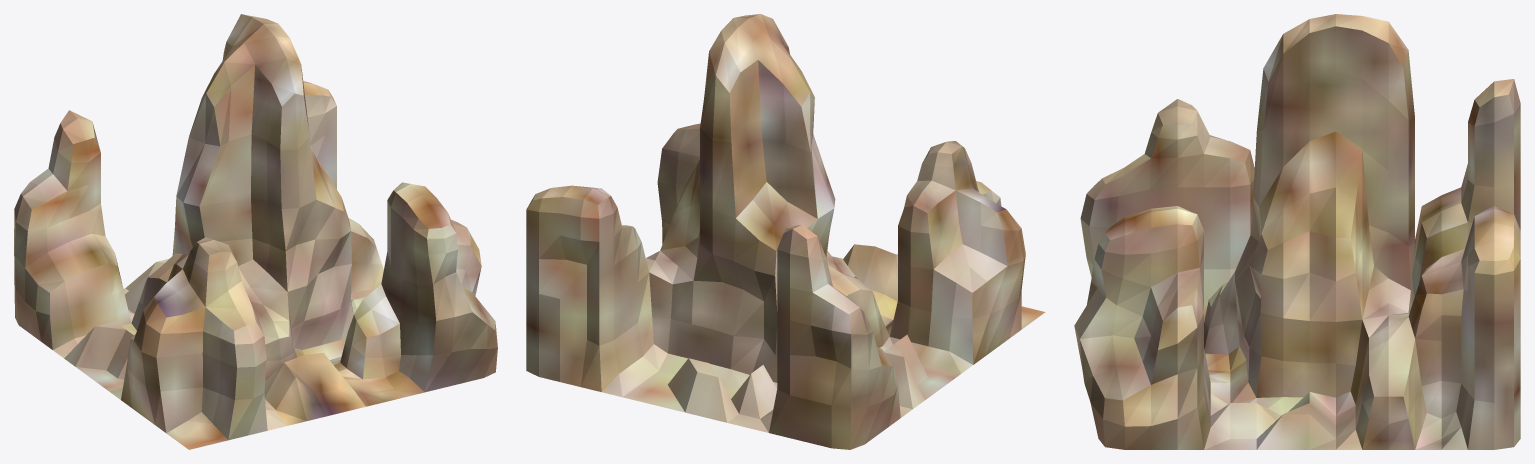
File: Mountain_desert_005.obj
3 views of the same model, side by side, from view 1: azimuth 30°, elevation 25°; view 2: azimuth 150°, elevation 25°; view 3: azimuth 270°, elevation 25° (orthographic). The views are drawn at different scales.
Parts seen in each view (by area): view 1: Mountain_desert_005; view 2: Mountain_desert_005; view 3: Mountain_desert_005.
Boxes of the visible parts, x1=… form: Mountain_desert_005: x1=14, y1=14, x2=497, y2=449; Mountain_desert_005: x1=526, y1=14, x2=1045, y2=449; Mountain_desert_005: x1=1074, y1=14, x2=1520, y2=449.
Size of the model in its own units: 2470 by 2151 by 2432.
Materials: 1 (1 with a texture image).
